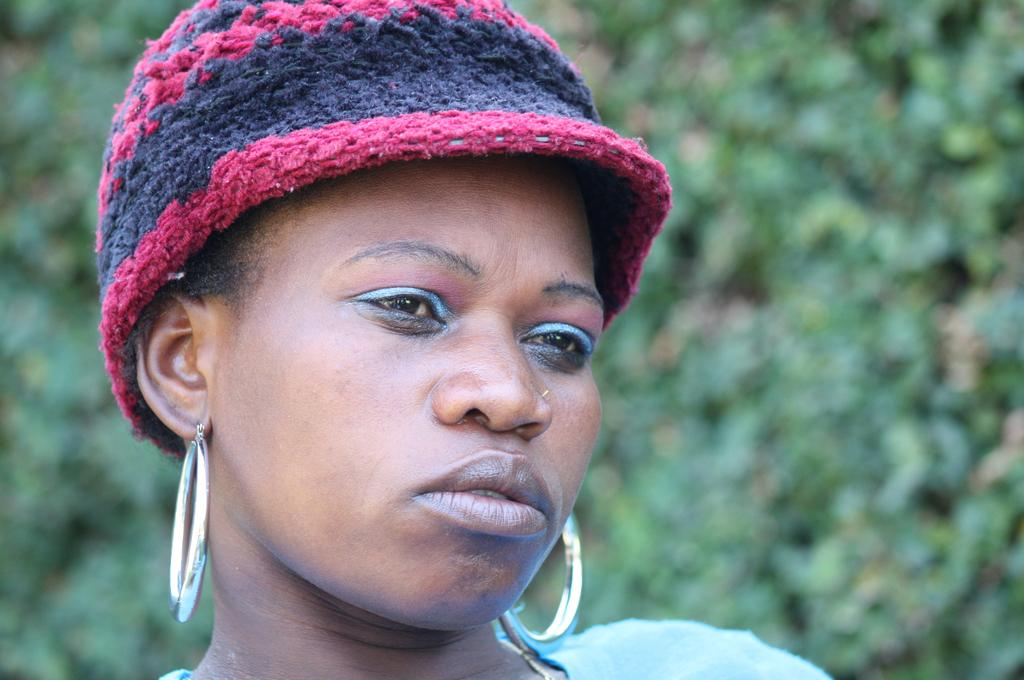Hat: (106, 1, 674, 450)
